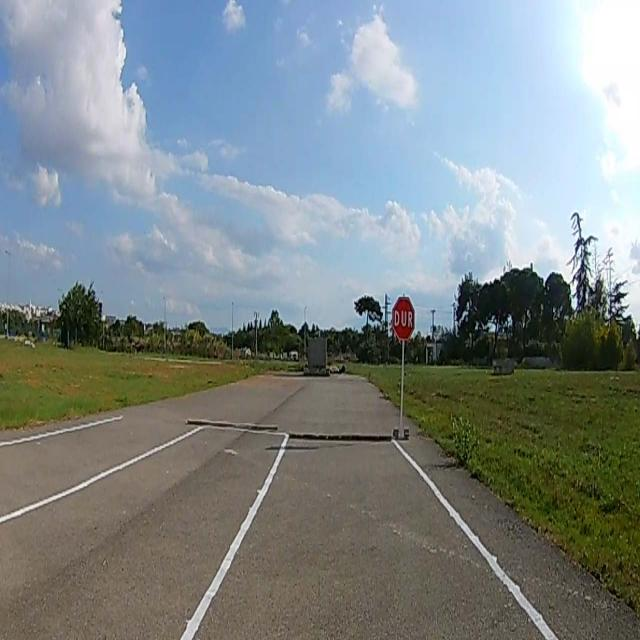dur: (392, 297, 414, 339)
